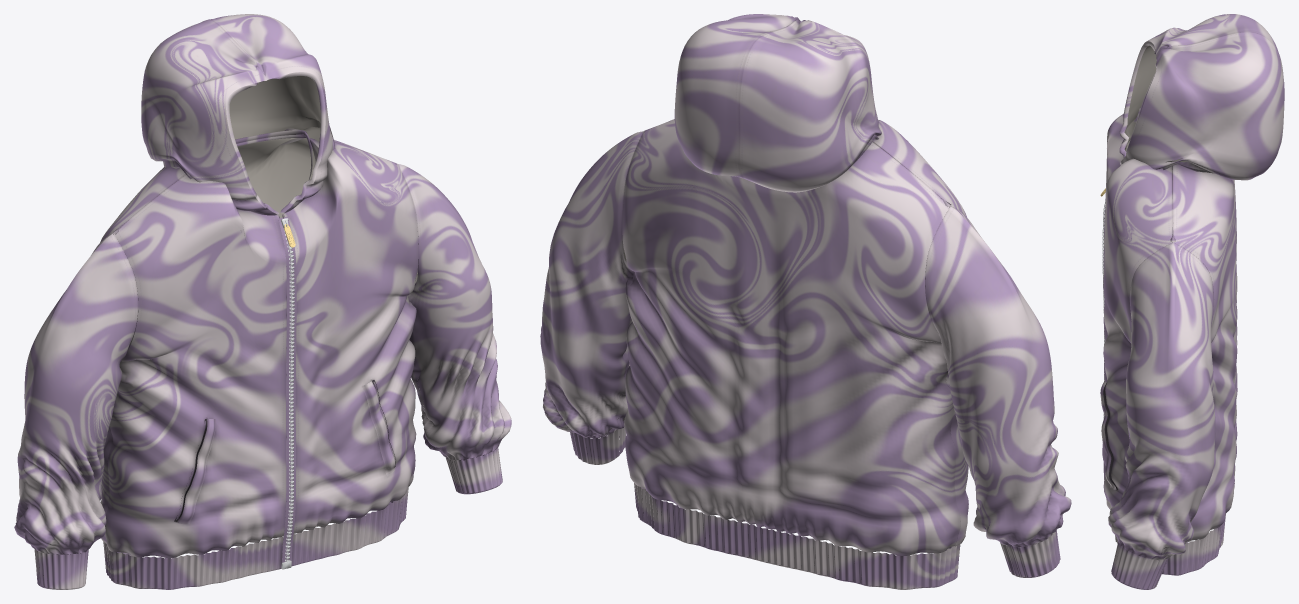
Rendered from ressac-v3-lilac-whirl.glb.
3 renders of one model, left to right at view 1: azimuth 30°, elevation 25°; view 2: azimuth 150°, elevation 25°; view 3: azimuth 270°, elevation 25°, orthographic. The views are drawn at different scales.
Visible parts, largest first — view 1: Panel_Right, Panel_Left, Sleeve_Right, Hood_Outer, Sleeve_Left, Hem, Body_Back, Hood_Inner, Zip_Teeth_Right, Zip_Teeth_Left, Cuff_Right, Cuff_Left (+2 smaller); view 2: Body_Back, Hood_Outer, Sleeve_Right, Sleeve_Left, Hem, Panel_Right, Cuff_Right, Cuff_Left; view 3: Sleeve_Left, Hood_Outer, Body_Back, Panel_Left, Cuff_Left, Hem, Hood_Inner, Panel_Right, Pocket_Left.
Part boxes in pixels (left/top/right/bottom): Panel_Right: left=105, top=175, right=286, bottom=558; Panel_Left: left=282, top=138, right=418, bottom=533; Sleeve_Right: left=14, top=233, right=138, bottom=554; Hood_Outer: left=141, top=14, right=335, bottom=215; Sleeve_Left: left=398, top=164, right=511, bottom=460; Hem: left=103, top=487, right=408, bottom=589; Body_Back: left=100, top=128, right=398, bottom=543; Hood_Inner: left=229, top=76, right=320, bottom=203; Zip_Teeth_Right: left=278, top=217, right=293, bottom=569; Zip_Teeth_Left: left=283, top=216, right=296, bottom=567; Cuff_Right: left=34, top=549, right=88, bottom=589; Cuff_Left: left=446, top=447, right=502, bottom=494; Body_Back: left=622, top=119, right=960, bottom=555; Hood_Outer: left=674, top=14, right=881, bottom=192; Sleeve_Right: left=925, top=206, right=1071, bottom=546; Sleeve_Left: left=540, top=131, right=642, bottom=438; Hem: left=634, top=483, right=960, bottom=589; Panel_Right: left=872, top=120, right=968, bottom=545; Cuff_Right: left=1000, top=530, right=1060, bottom=577; Cuff_Left: left=570, top=425, right=625, bottom=464; Sleeve_Left: left=1108, top=242, right=1215, bottom=559; Hood_Outer: left=1119, top=14, right=1284, bottom=180; Body_Back: left=1170, top=164, right=1237, bottom=543; Panel_Left: left=1102, top=158, right=1175, bottom=509; Cuff_Left: left=1111, top=542, right=1168, bottom=589; Hem: left=1115, top=513, right=1225, bottom=575; Hood_Inner: left=1124, top=45, right=1187, bottom=164; Panel_Right: left=1105, top=107, right=1140, bottom=200; Pocket_Left: left=1100, top=381, right=1117, bottom=489.
Size of the model in its own units: 0.8831 by 0.8705 by 0.3057.
Materials: 7 (1 with a texture image).
